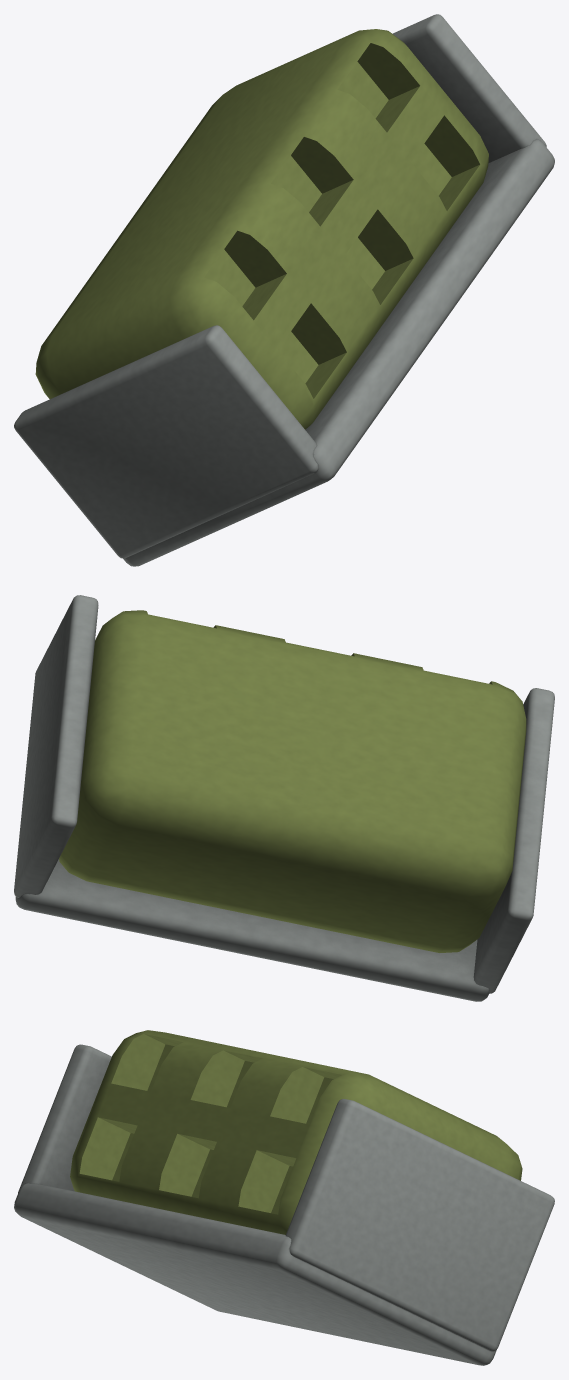
3 views of the same model, one above another, from view 1: azimuth 30°, elevation 25°; view 2: azimuth 150°, elevation 25°; view 3: azimuth 270°, elevation 25° (orthographic). The views are drawn at different scales.
Parts seen in each view (by area): view 1: Porous ionic crust; view 2: Porous ionic crust; view 3: Porous ionic crust.
Part boxes in pixels (x1,y1,x2,y2): Porous ionic crust: (14,14,554,566); Porous ionic crust: (14,595,554,1001); Porous ionic crust: (14,1030,554,1365).
Bounding box in the file's own units: 1.27 × 0.9132 × 1.19.
Materials: 1 (1 with a texture image).
